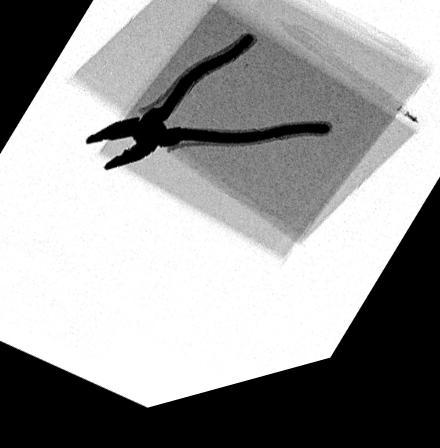Pliers: (80, 46, 333, 179)
